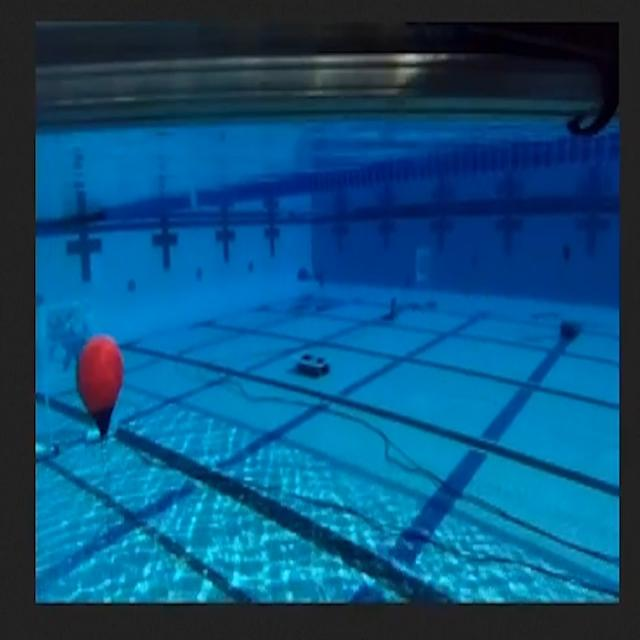Buoy: (72, 339, 126, 441)
